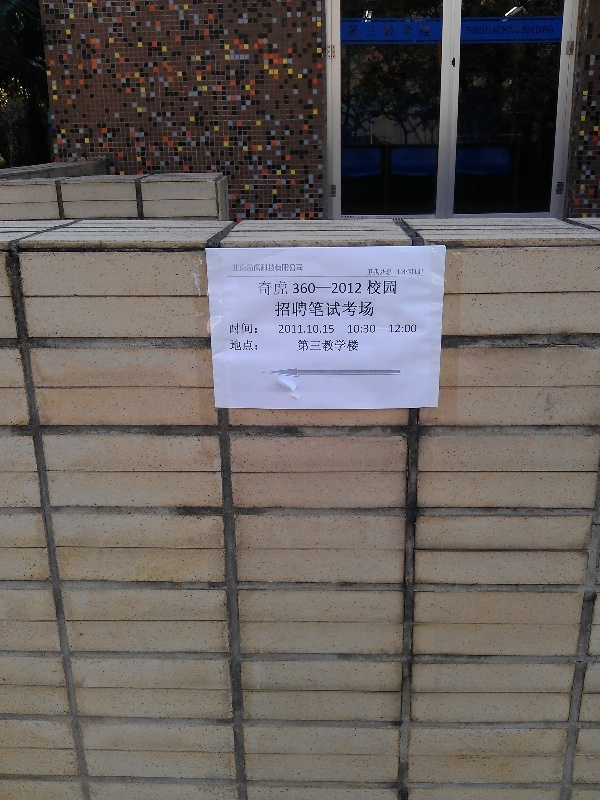text: (289, 301, 304, 318), (305, 301, 320, 318), (321, 301, 336, 318), (337, 301, 352, 318), (353, 301, 368, 318), (257, 280, 272, 296), (273, 280, 288, 296), (289, 280, 304, 296), (305, 280, 320, 296), (321, 280, 336, 296), (337, 280, 352, 296), (353, 280, 368, 296), (369, 280, 384, 296), (274, 301, 288, 318), (385, 280, 399, 296), (305, 340, 320, 353), (321, 340, 336, 353), (337, 340, 352, 353), (353, 323, 368, 335), (369, 323, 384, 335), (385, 323, 400, 335), (401, 323, 416, 335), (241, 340, 256, 351), (289, 324, 304, 335), (305, 324, 320, 335), (321, 324, 336, 335), (241, 324, 256, 334), (241, 263, 256, 273), (257, 263, 272, 273), (273, 263, 288, 273), (289, 263, 304, 273), (369, 268, 384, 276), (385, 268, 400, 276), (401, 268, 416, 276), (369, 301, 376, 318), (278, 324, 288, 335), (230, 324, 240, 334), (231, 340, 240, 351), (297, 340, 304, 353), (353, 340, 359, 353), (417, 268, 426, 276), (233, 263, 240, 273), (347, 323, 352, 335), (257, 340, 259, 351), (257, 324, 259, 334), (417, 323, 418, 335), (367, 268, 368, 276)
